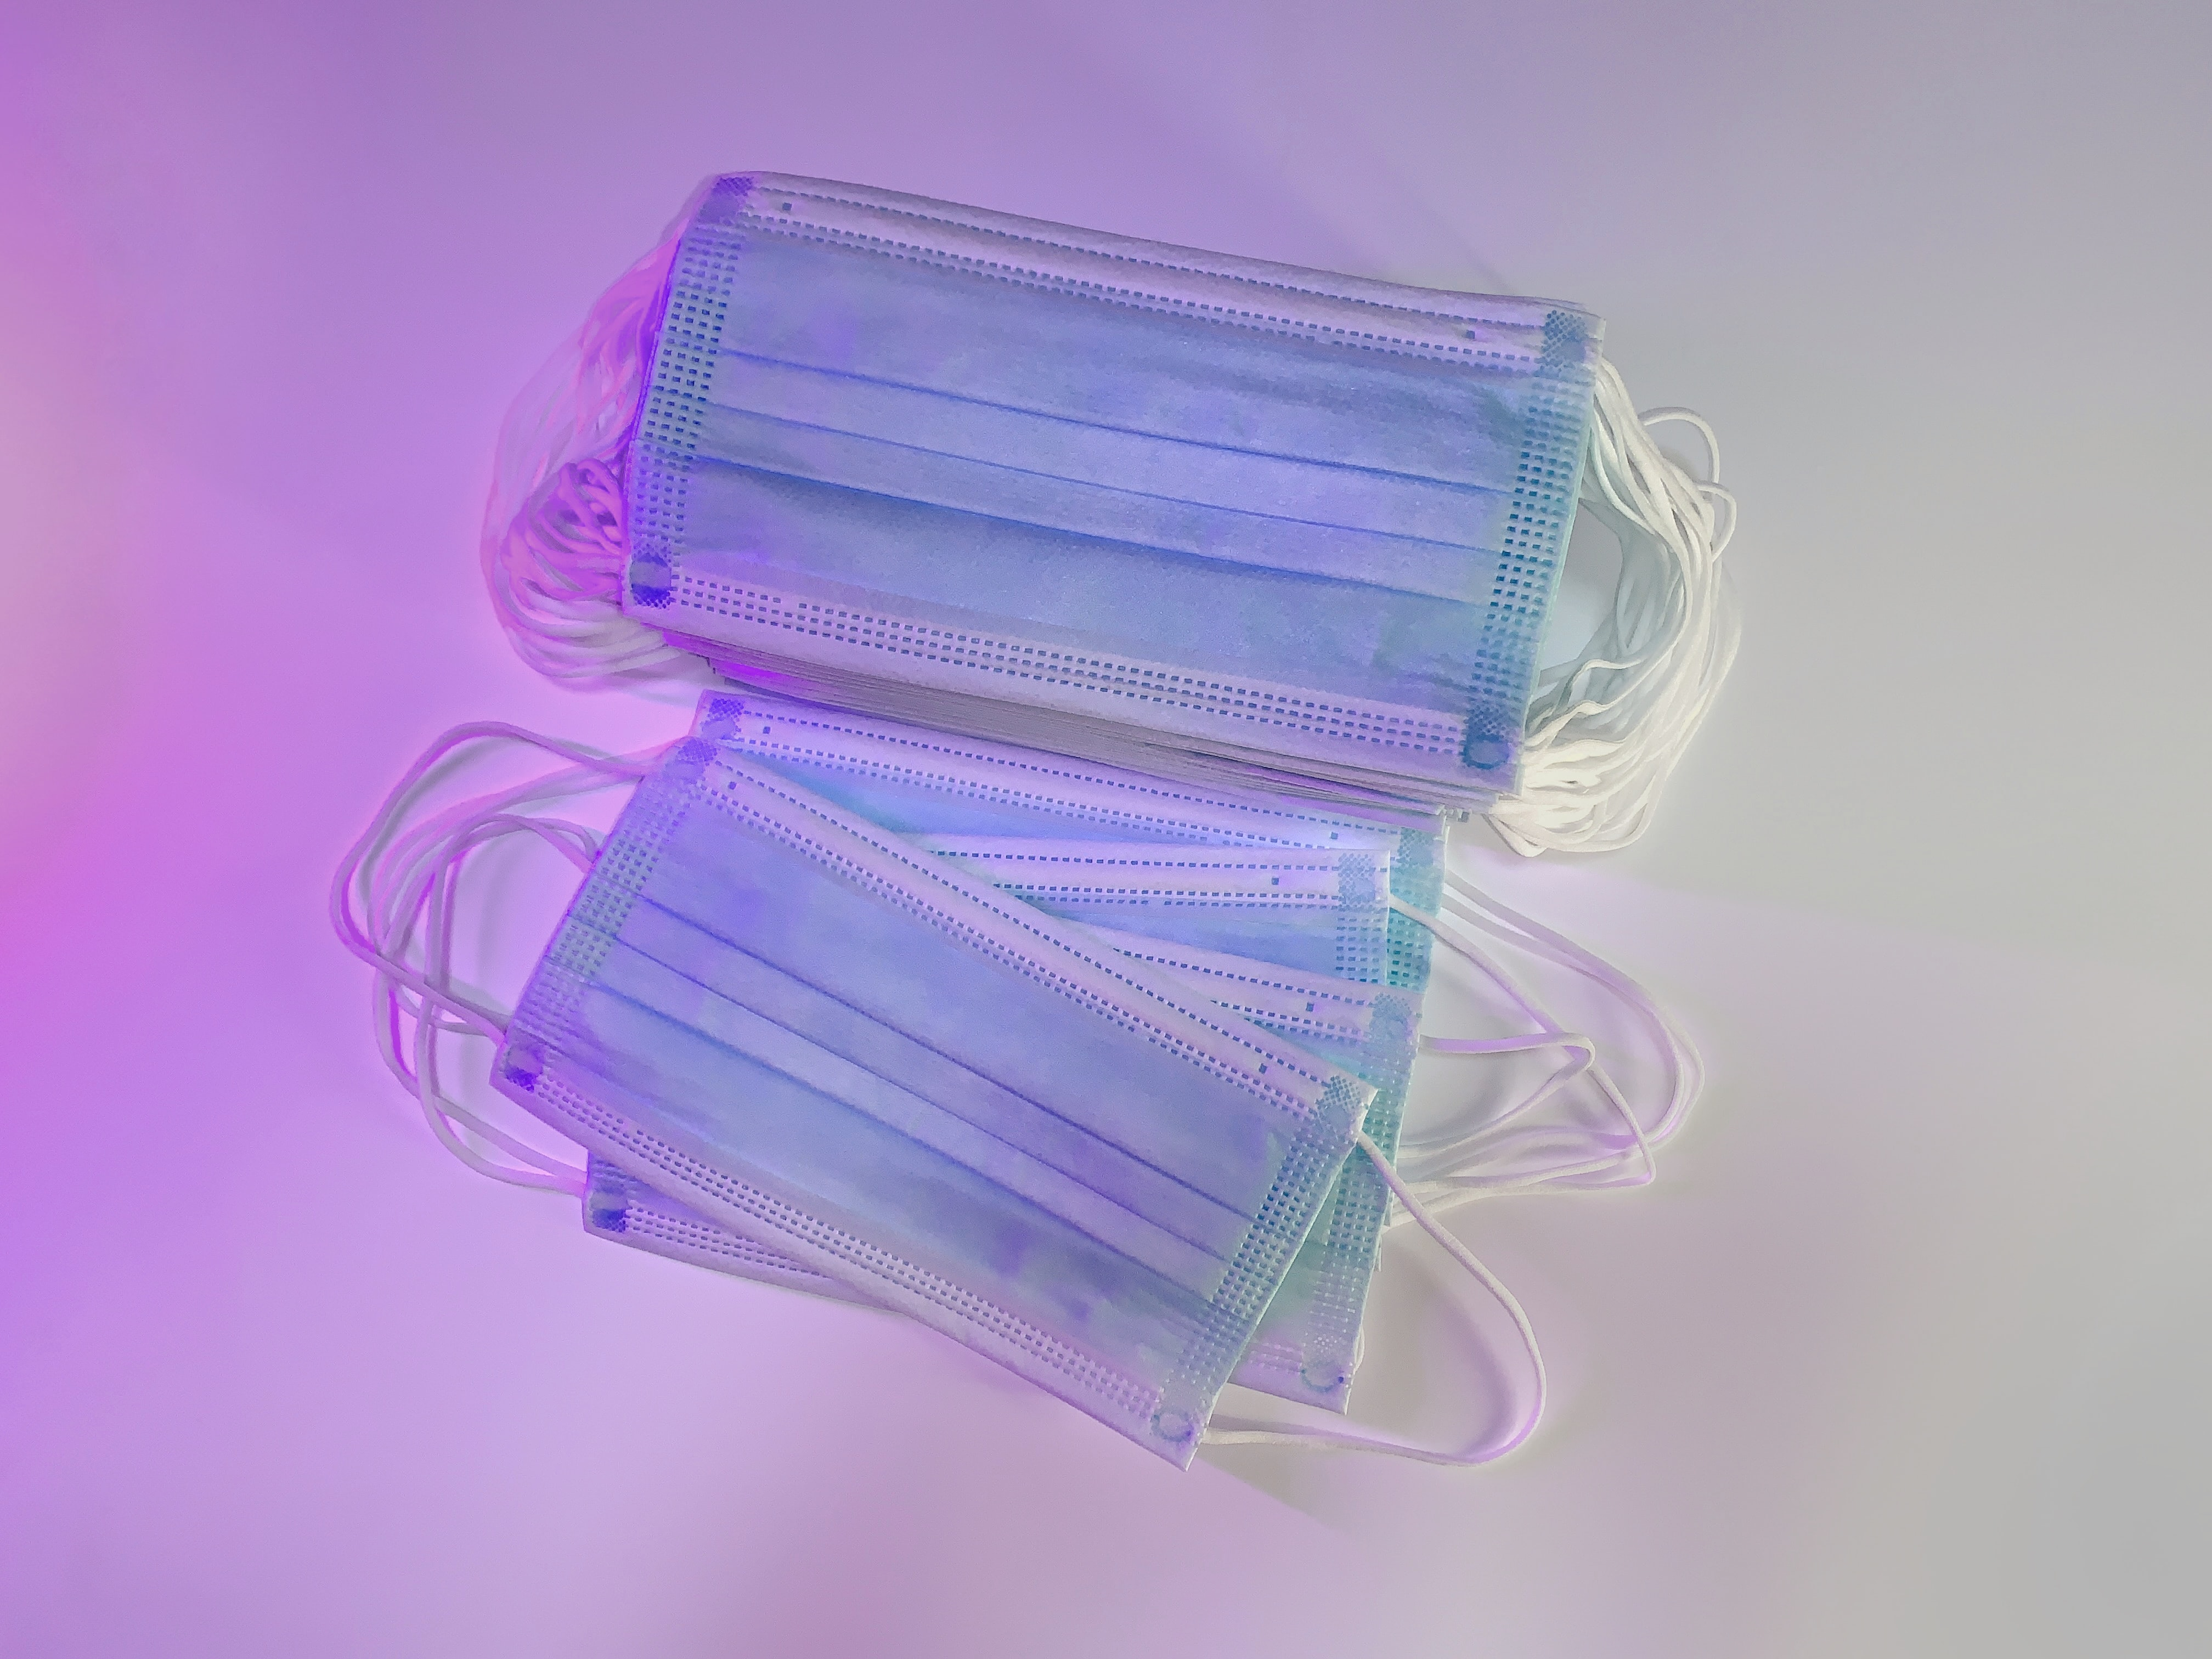mask: (361, 741, 1735, 1476), (456, 166, 1799, 791)
